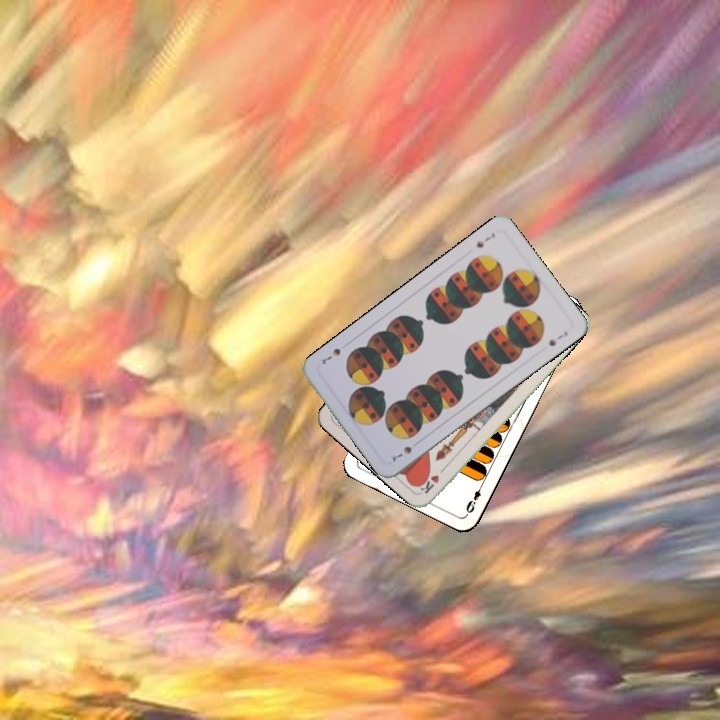E9: (462, 479, 486, 516)
HK: (417, 461, 449, 497)
S7: (472, 228, 498, 251), (388, 442, 414, 464)
